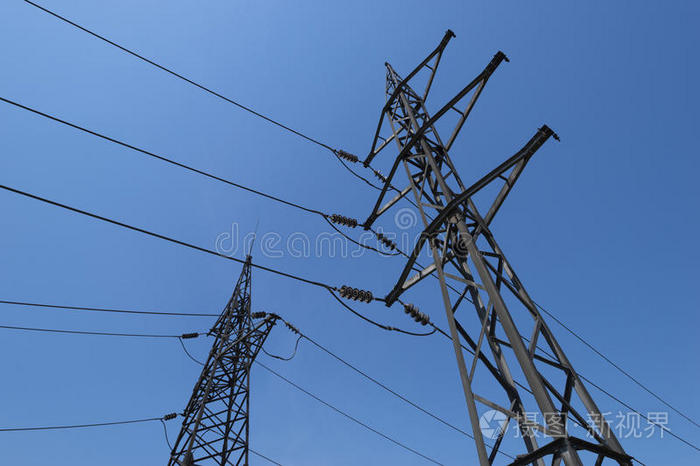insulator: (402, 301, 431, 330), (338, 285, 373, 303), (328, 214, 358, 231), (375, 234, 399, 255)
